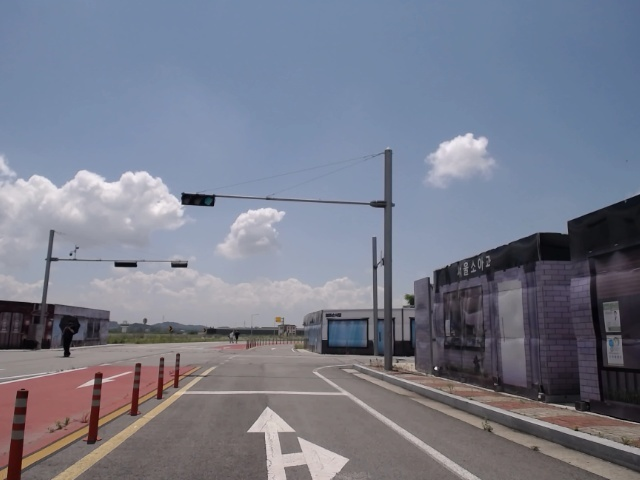green_3: (183, 193, 213, 207)
